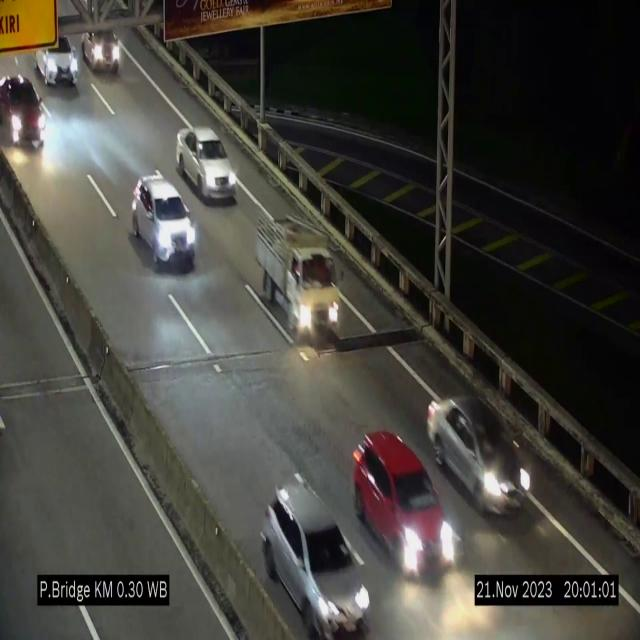Car: (259, 481, 373, 640), (352, 428, 453, 585), (432, 391, 538, 524), (131, 175, 197, 268), (175, 127, 237, 202), (0, 76, 49, 154), (76, 17, 126, 83), (35, 36, 81, 88)
Truck: (254, 201, 342, 352)
